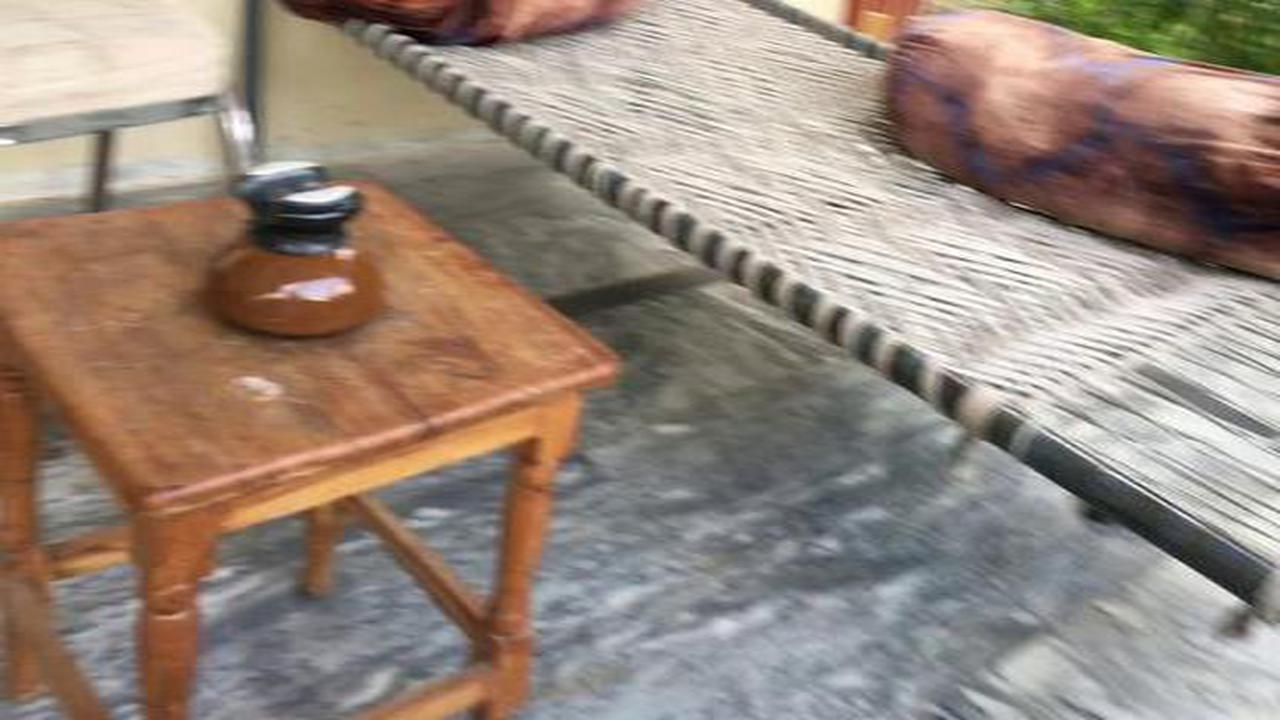insulator_pin: (201, 142, 407, 362)
